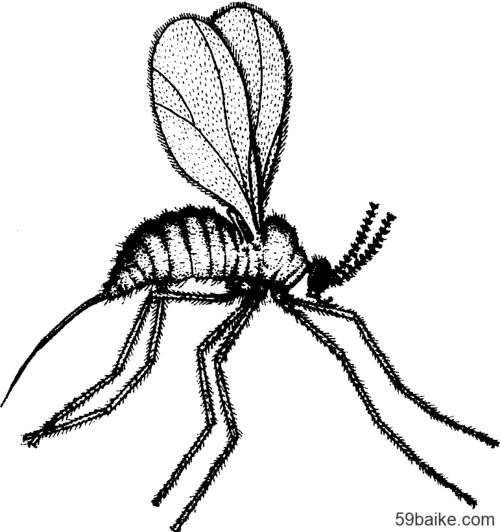Cecidomyiidae: (1, 1, 500, 531)
